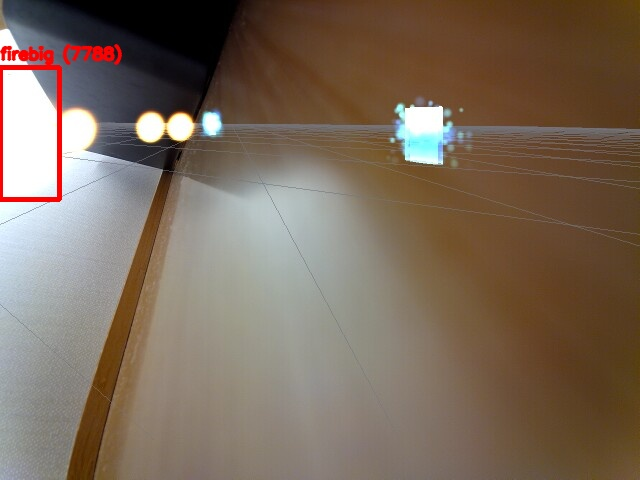firebig: (0, 67, 59, 199)
